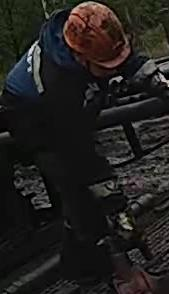gloves: (85, 174, 141, 252), (124, 52, 169, 104)
helmet: (62, 0, 131, 69)
vest: (4, 13, 112, 156)
